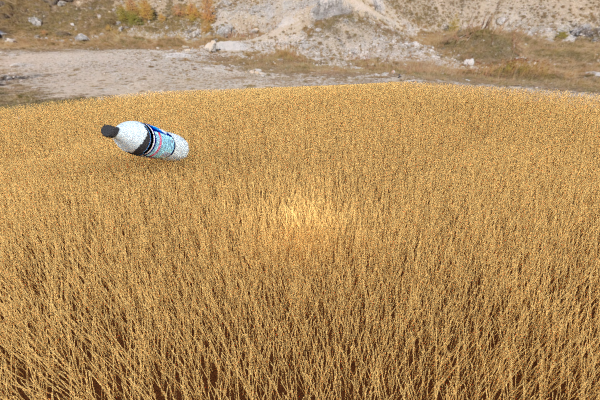Plastic Bottle: (101, 120, 189, 161), (313, 113, 372, 151), (436, 93, 479, 115)
